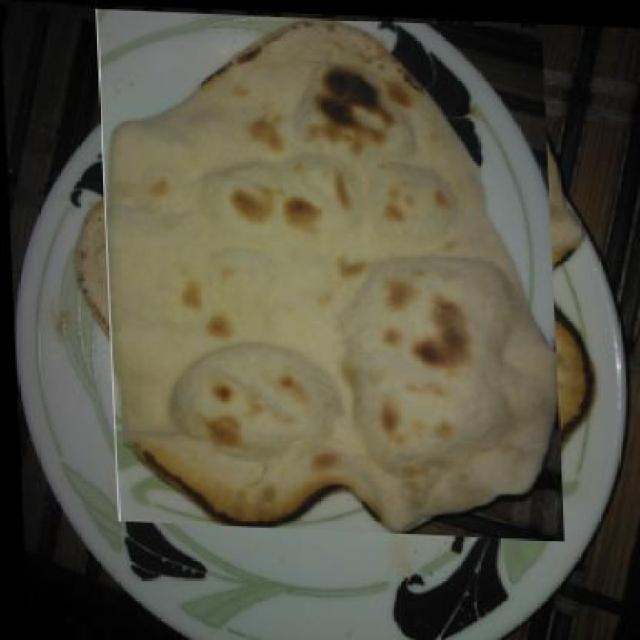chapati: (80, 25, 578, 522)
